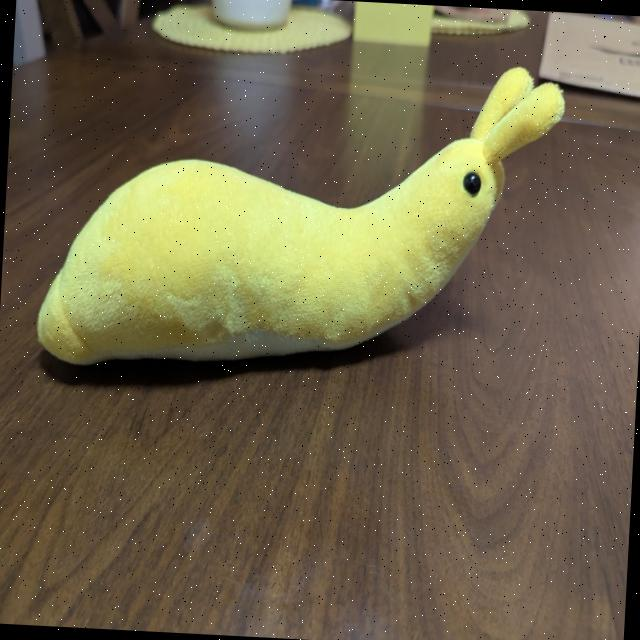banana-slug-toy: (30, 31, 577, 396)
